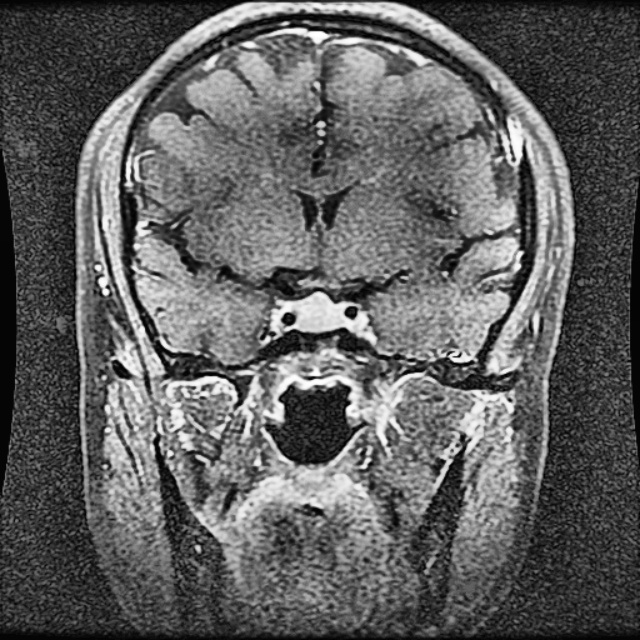Pituitary: (299, 292, 343, 330)
